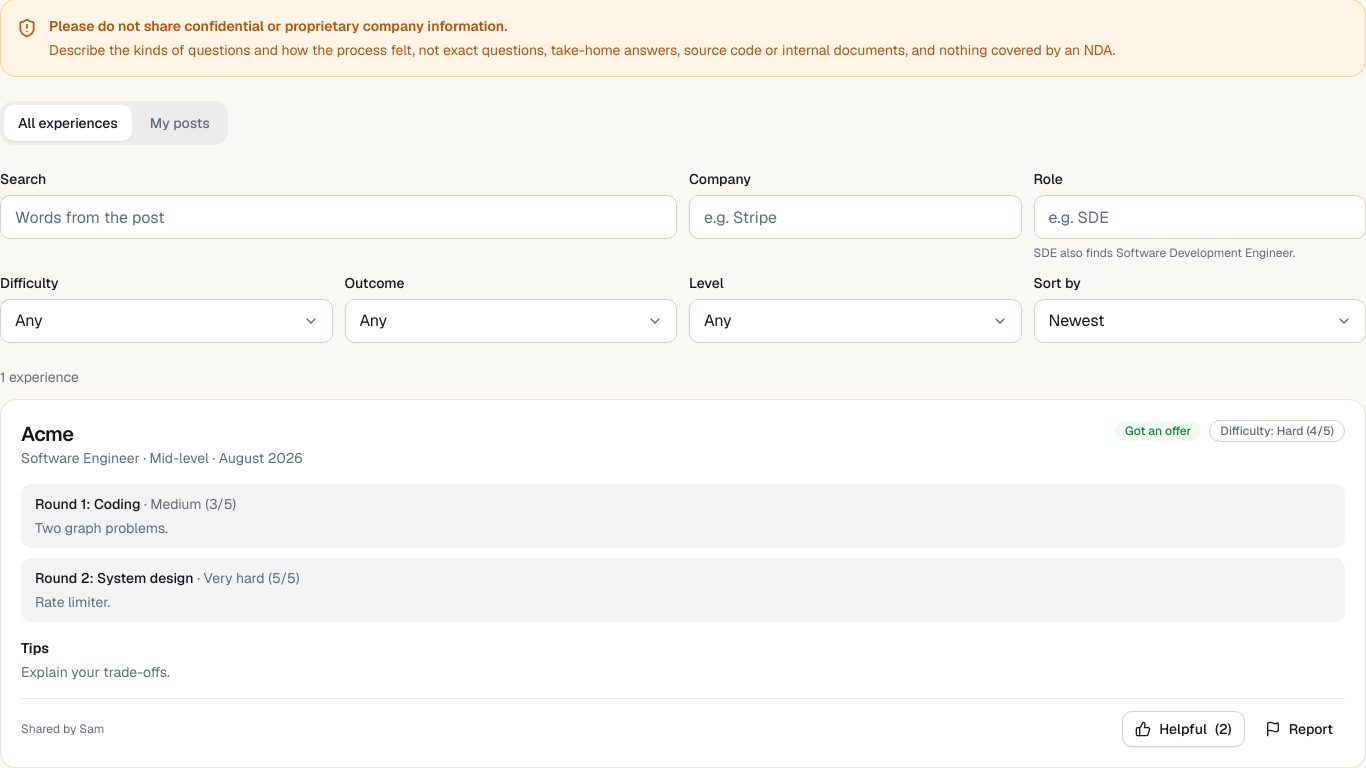
Test: Interviews page › reports a post with a reason
(page scrolled)
Step 1. Click the button with aria-label "Report the post about Acme" → coordinates (1299, 729), box [1253,711,1345,747]
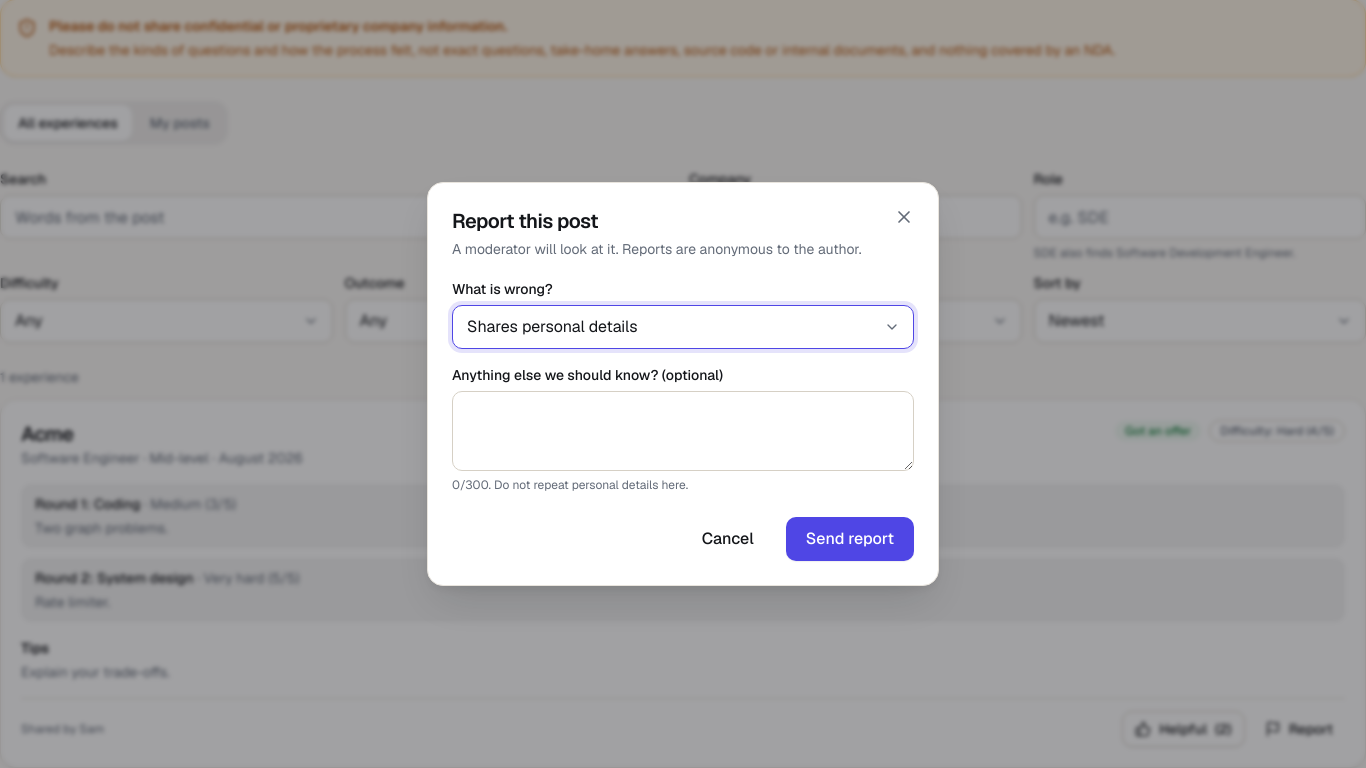
Step 2. Select "Shares confidential company information" in the dropdown labelled "What is wrong?" → coordinates (683, 327), box [452,305,914,349]
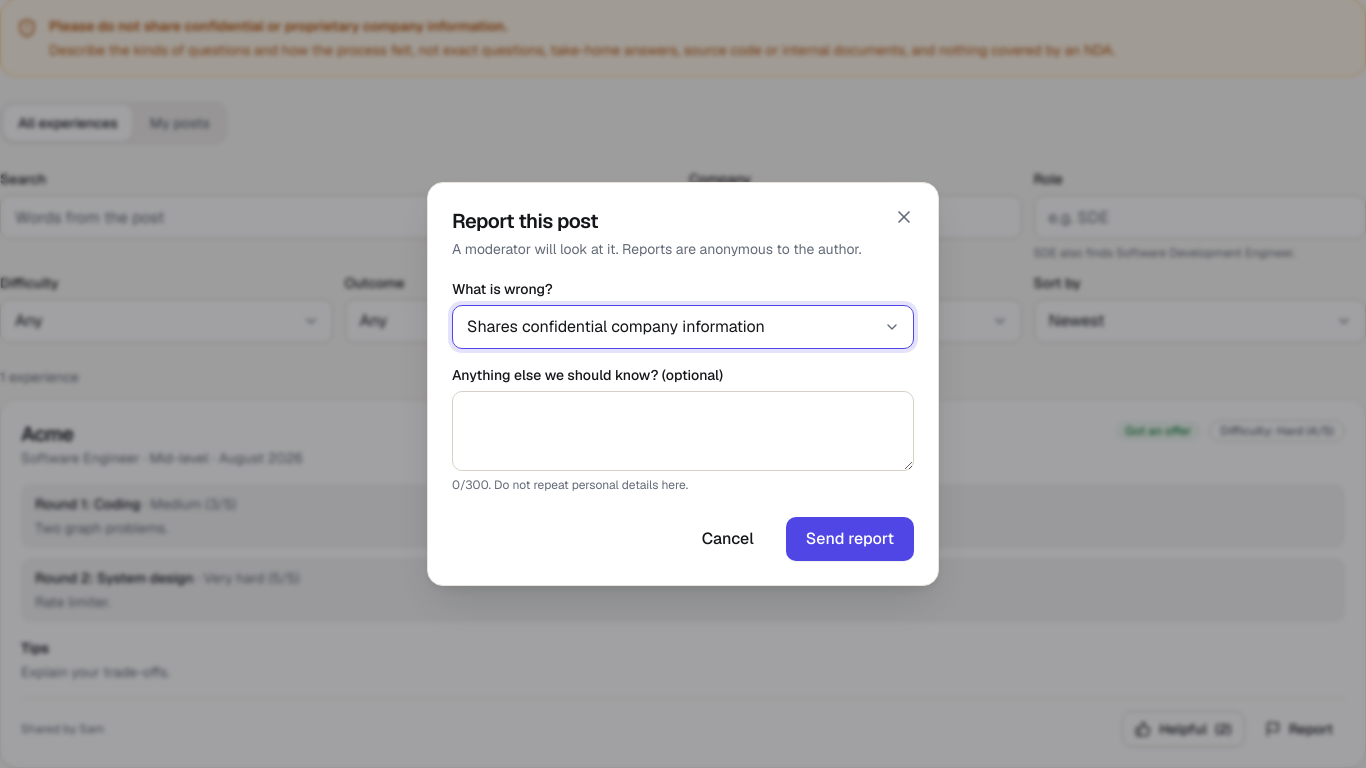
Step 3. Type "Has the exact assessment." into the text box labelled "Anything else we should know? (optional)" → coordinates (683, 431), box [452,391,914,471]
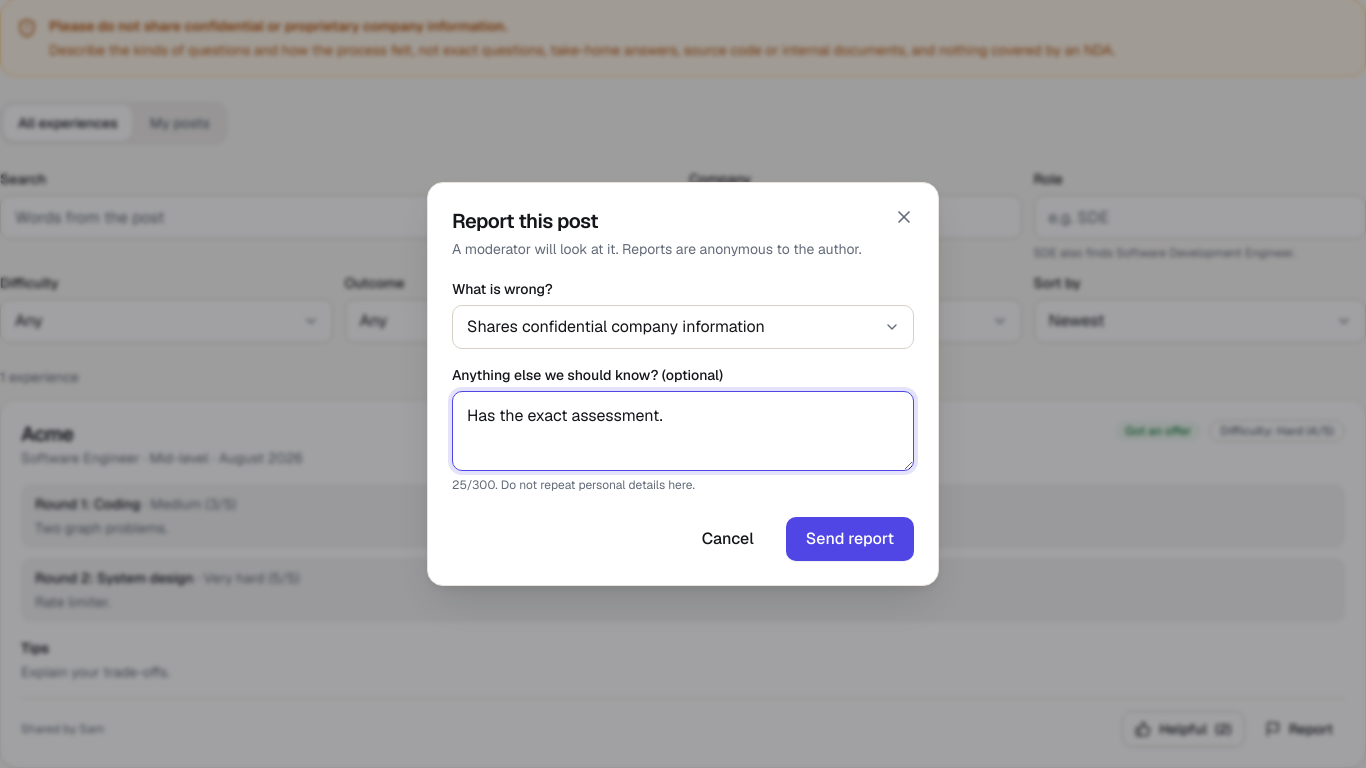
Step 4. Click the button "Send report" → coordinates (850, 539), box [786,517,914,561]
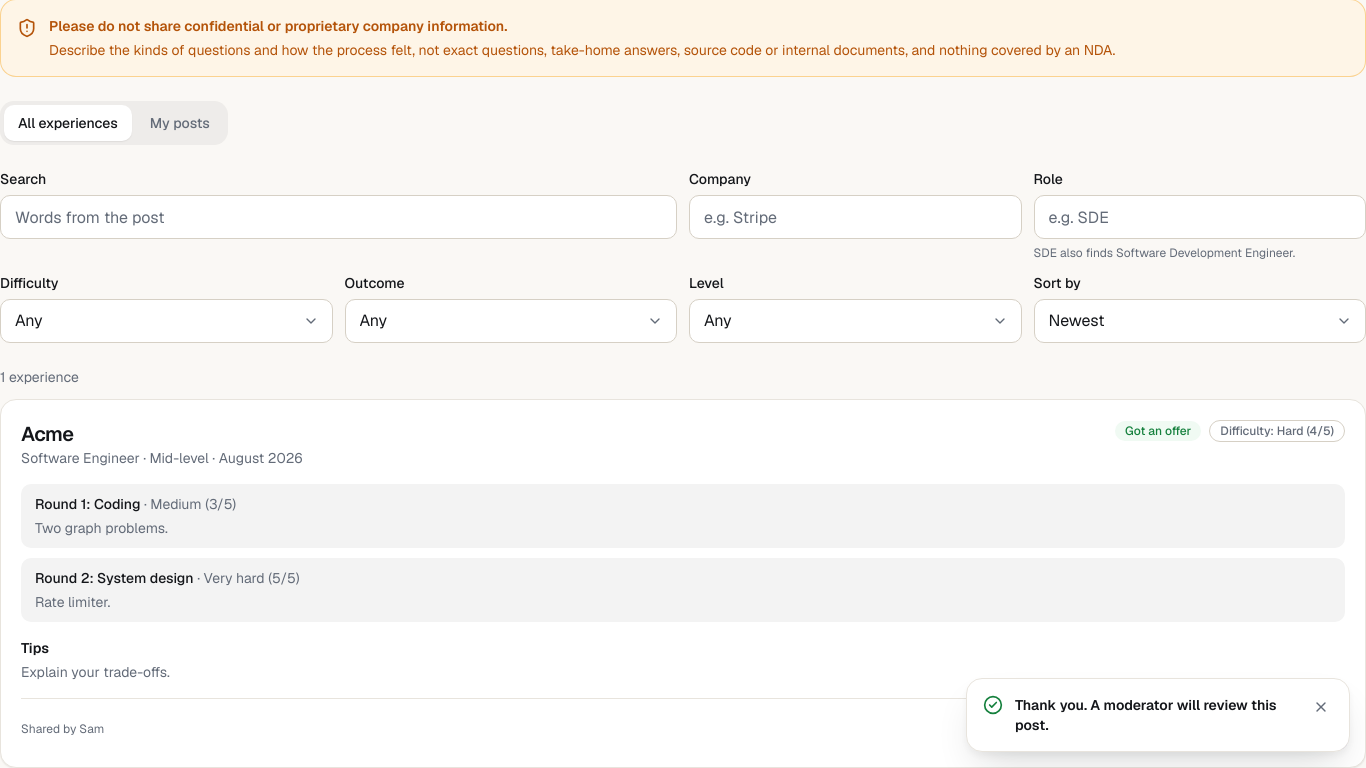
Check: the text "Thank you. A moderator will review this post." is shown, box [1015,695,1297,735]
